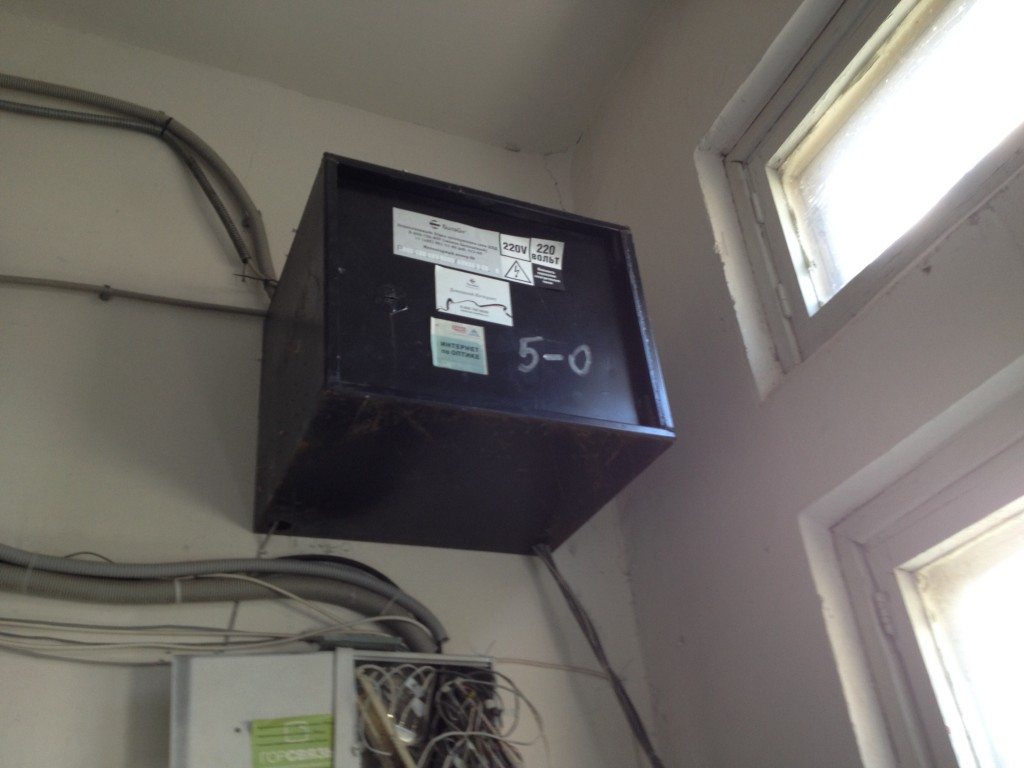shta-9m: (243, 140, 686, 565)
